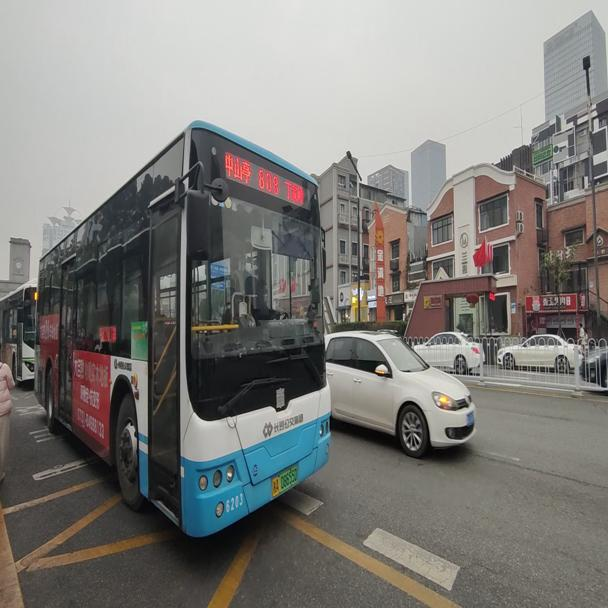bus: (33, 117, 335, 535), (0, 283, 38, 382)
screen: (256, 166, 282, 198)
